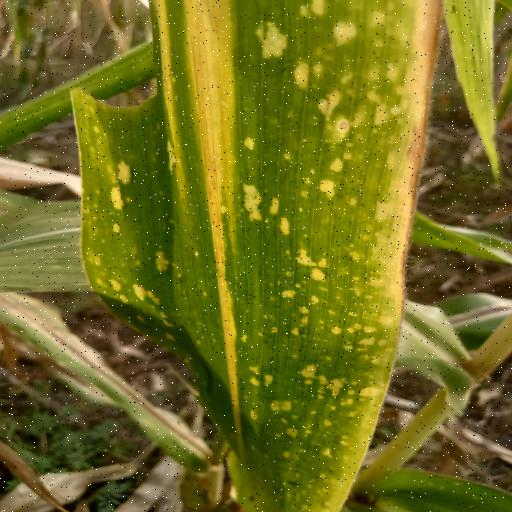Corn_Yellow_Spots: (68, 0, 452, 512)
